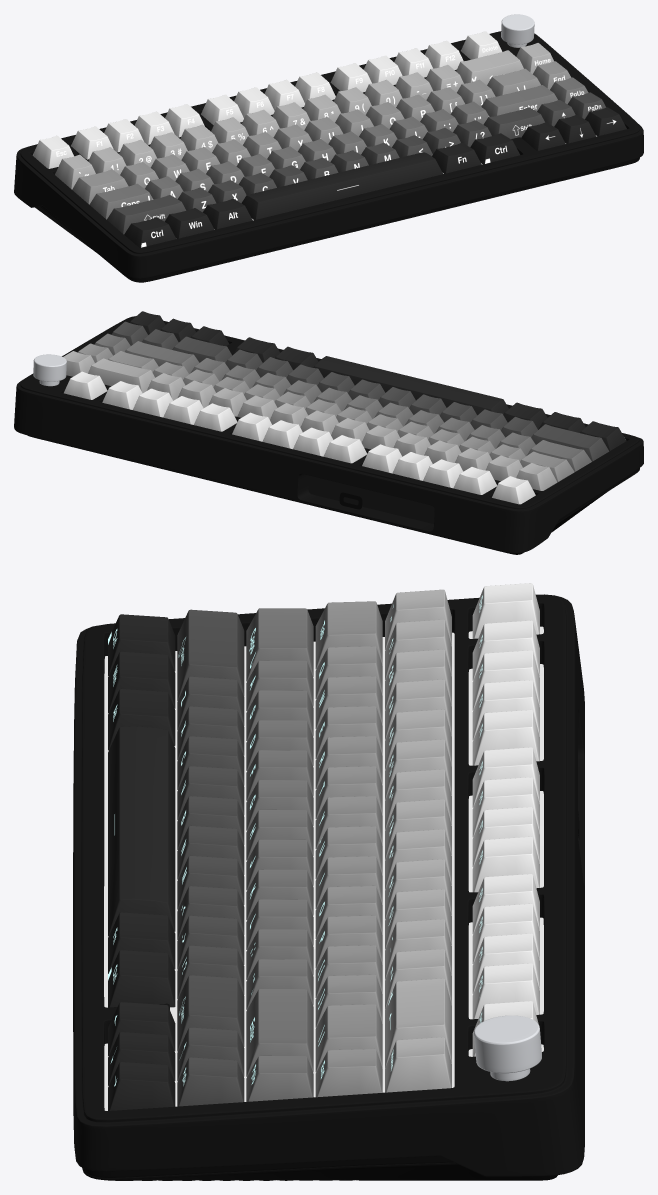
File: exploded-keyboard.glb
3 renders of one model, top to bottom at view 1: azimuth 30°, elevation 25°; view 2: azimuth 150°, elevation 25°; view 3: azimuth 270°, elevation 25°, orthographic. The views are drawn at different scales.
Parts seen in each view (by area): view 1: Layer_Keycaps, Layer_Case; view 2: Layer_Keycaps, Layer_Case; view 3: Layer_Keycaps, Layer_Case, Layer_Plate.
Part boxes in pixels (<box>): Layer_Keycaps: <box>32,31,626,247</box>; Layer_Case: <box>14,14,643,282</box>; Layer_Keycaps: <box>63,311,626,504</box>; Layer_Case: <box>14,316,643,554</box>; Layer_Keycaps: <box>108,583,539,1110</box>; Layer_Case: <box>73,594,584,1180</box>; Layer_Plate: <box>104,626,543,1110</box>.
Size of the model in its own units: 0.3225 by 0.0472 by 0.1382.
Materials: 16 (1 with a texture image).
